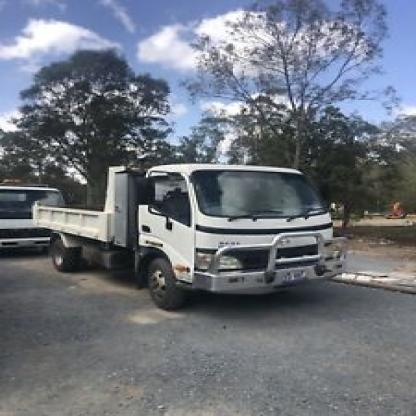dump_truck: (17, 148, 403, 323)
